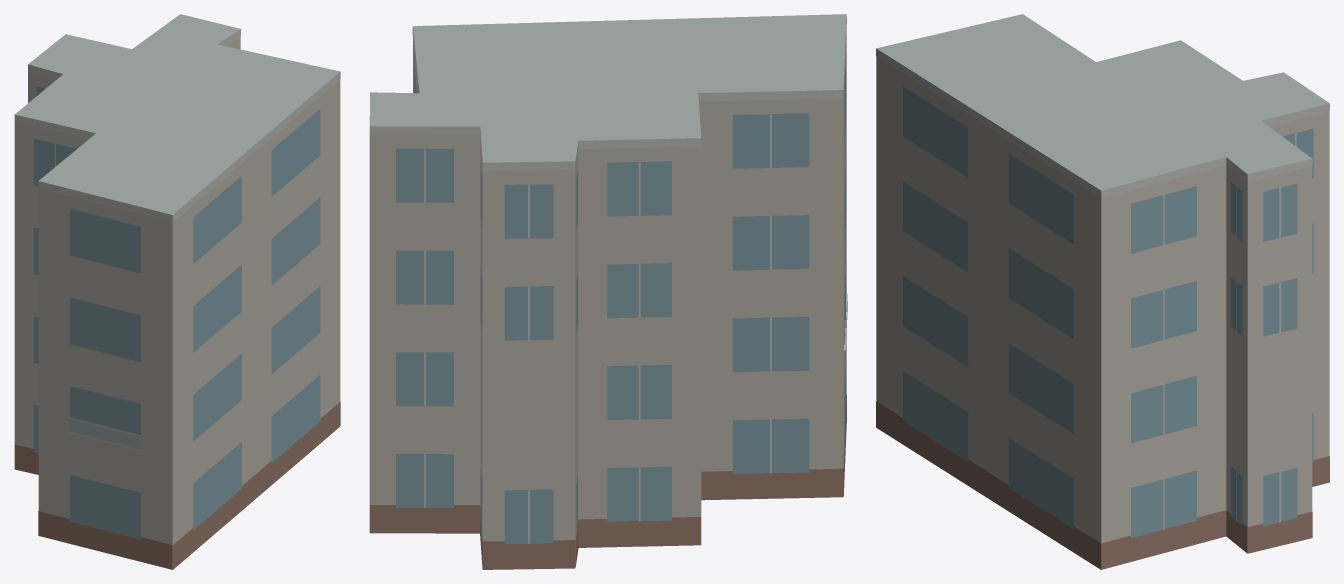
The model's file is survey-upis-32674361.glb.
3 renders of one model, left to right at view 1: azimuth 30°, elevation 25°; view 2: azimuth 150°, elevation 25°; view 3: azimuth 270°, elevation 25°, orthographic. The views are drawn at different scales.
Visible parts, largest first — view 1: survey-upis-32674361.tmp; view 2: survey-upis-32674361.tmp; view 3: survey-upis-32674361.tmp.
Part boxes in pixels (x1,y1,x2,y2): survey-upis-32674361.tmp: [14, 14, 340, 569]; survey-upis-32674361.tmp: [369, 14, 847, 569]; survey-upis-32674361.tmp: [876, 14, 1329, 569].
Bounding box in the file's own units: 11.59 × 11.6 × 12.58.
